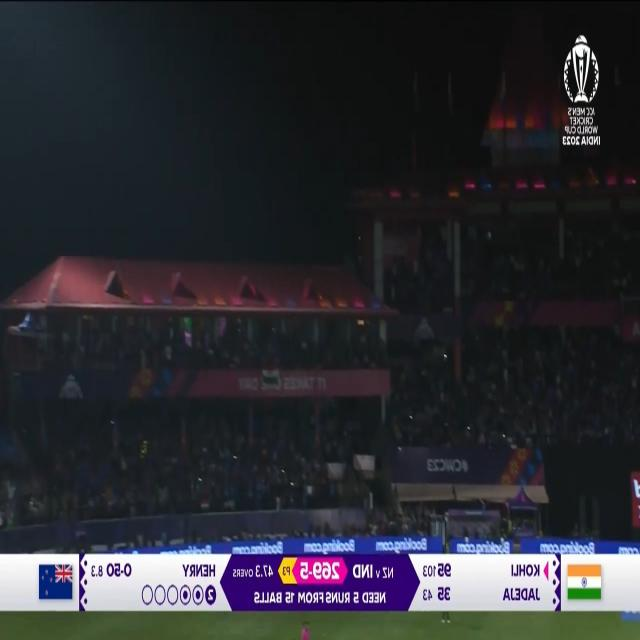ball: (350, 229, 366, 248)
